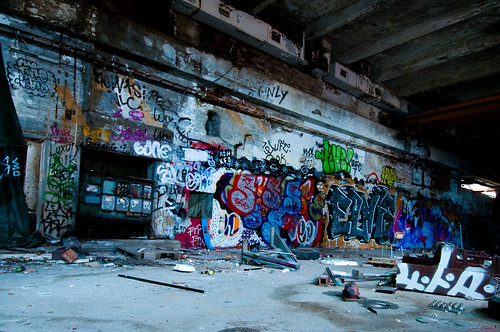graffiti: (160, 111, 453, 252), (1, 57, 175, 157), (397, 255, 493, 299)
